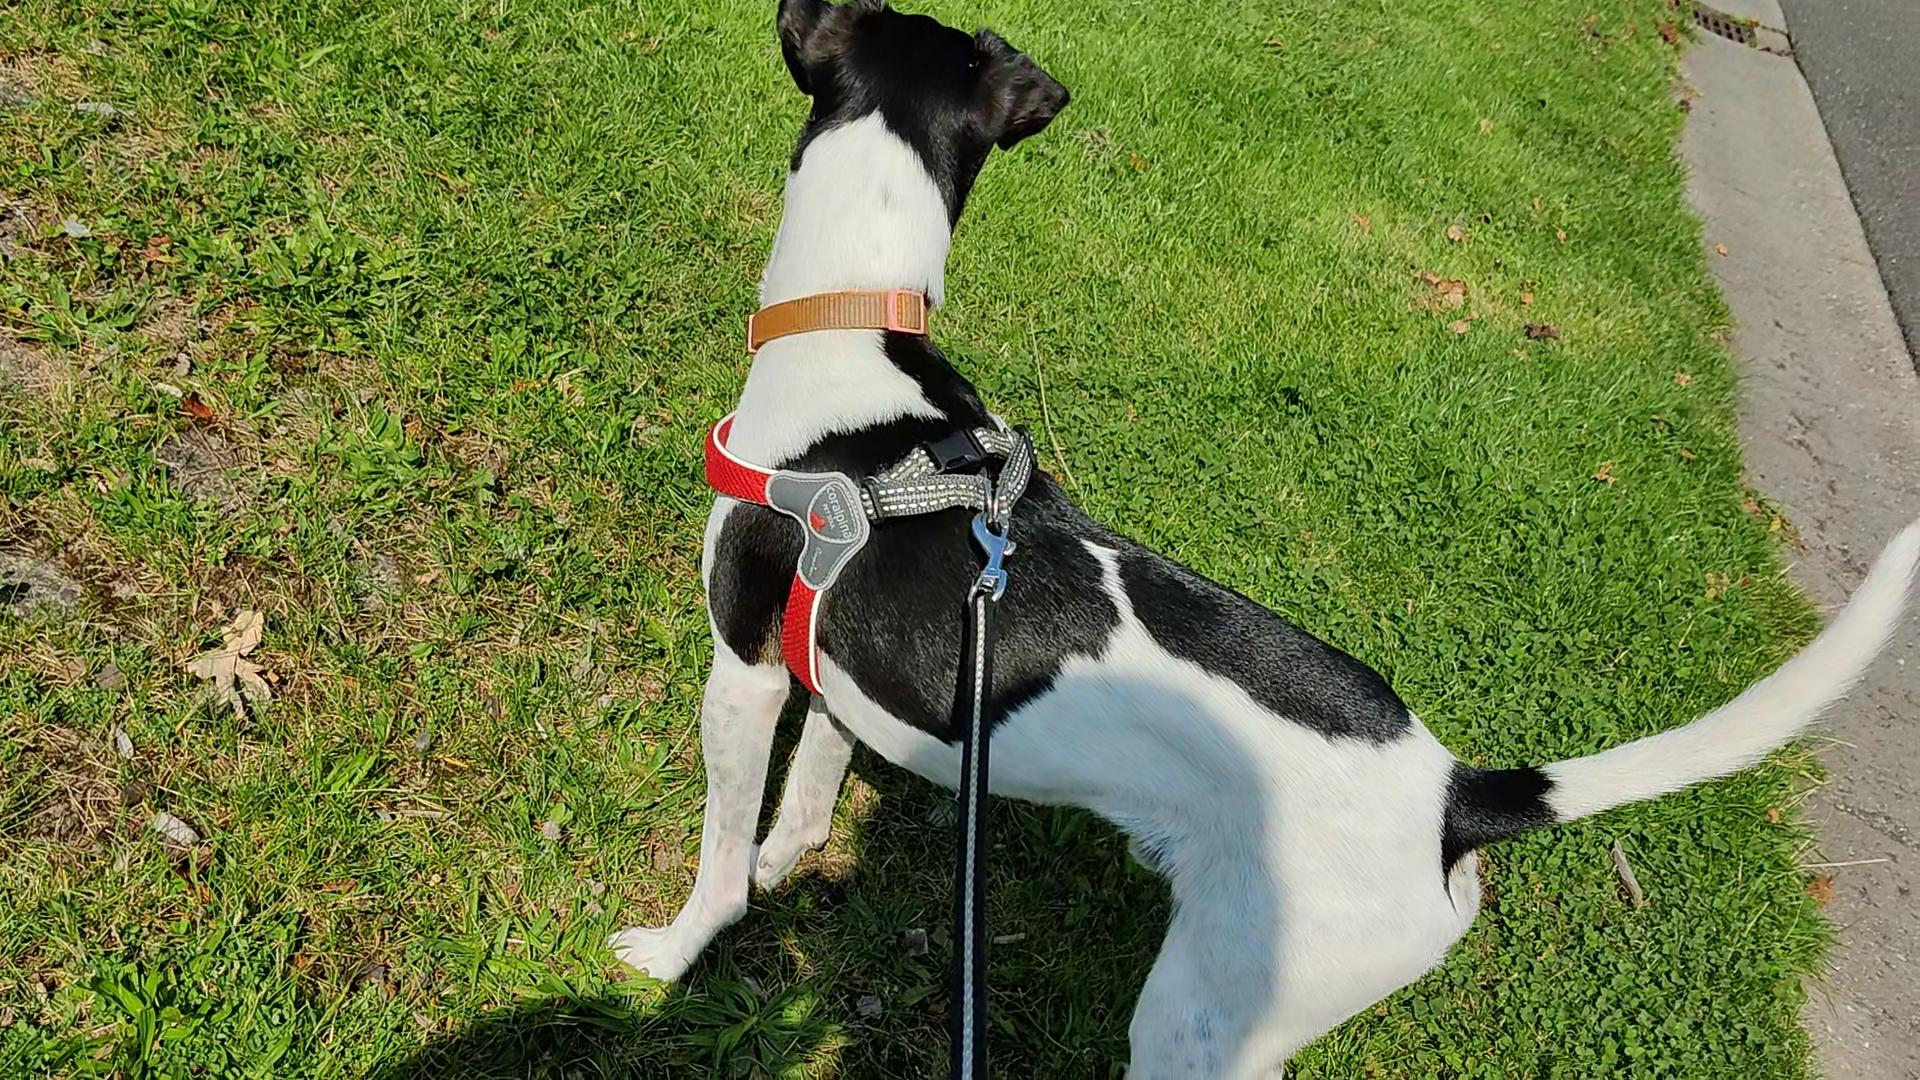Dog: (585, 0, 1919, 1079)
